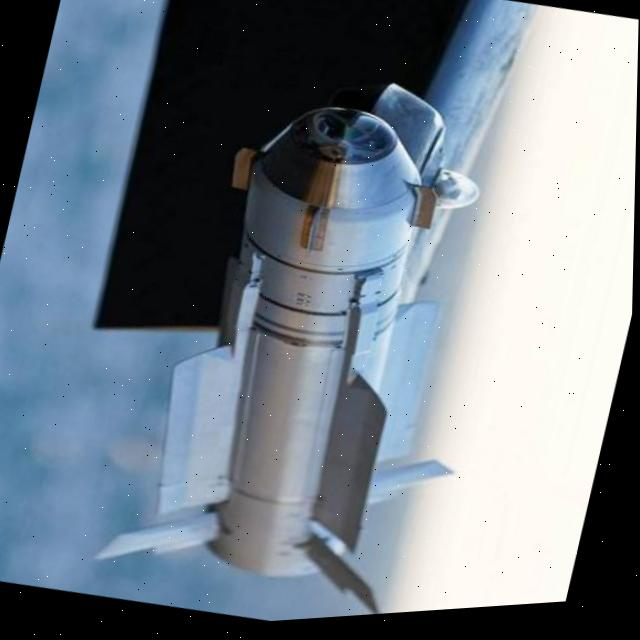missile: (85, 17, 508, 635)
